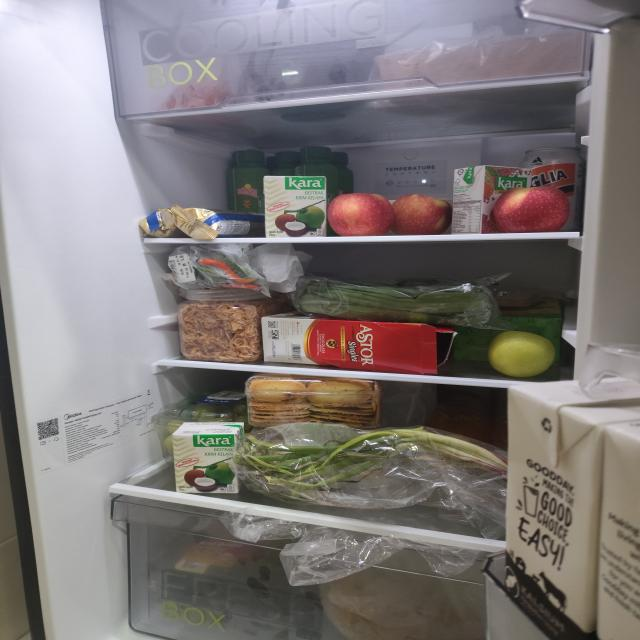apple: (327, 193, 453, 237), (494, 185, 572, 234), (486, 330, 556, 378)
chili: (194, 246, 264, 290)
coconut_milk: (450, 165, 533, 235), (172, 422, 245, 494), (263, 176, 328, 238)
leafy_greens: (297, 276, 493, 330)
spring_onion: (233, 426, 509, 500)
